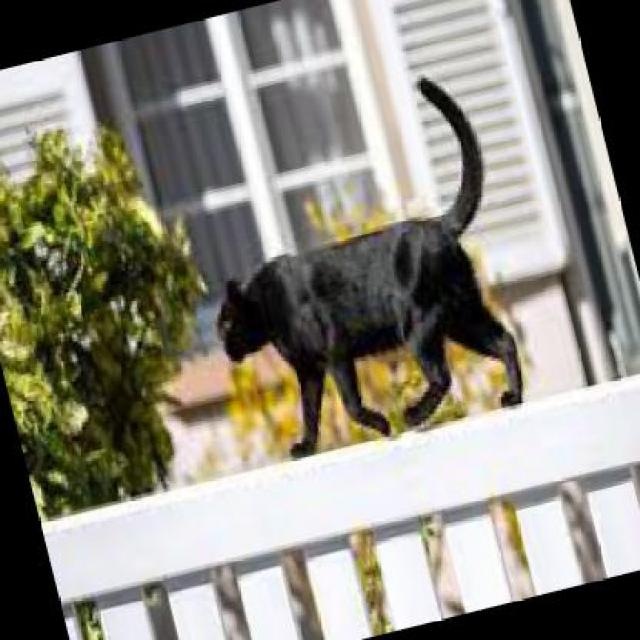animals: (149, 54, 560, 478)
